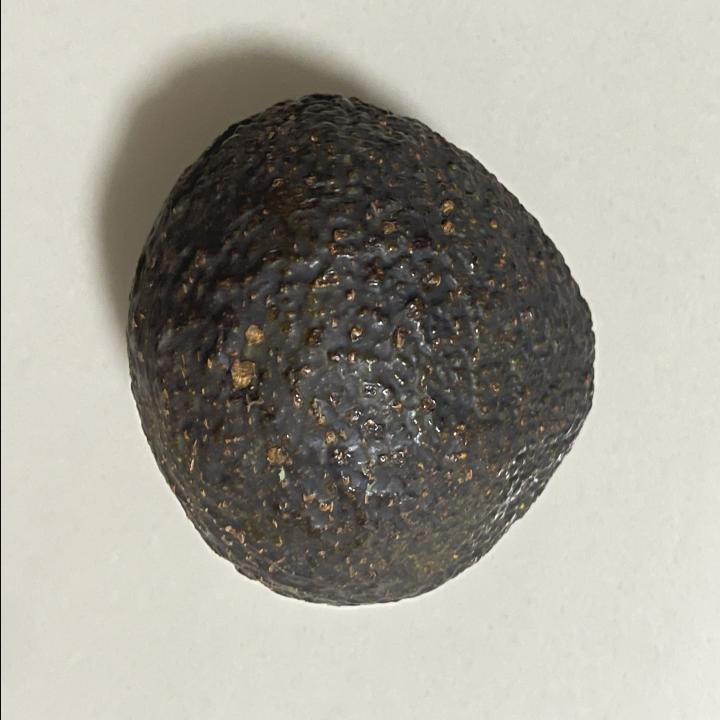Level2: (122, 83, 604, 612)
